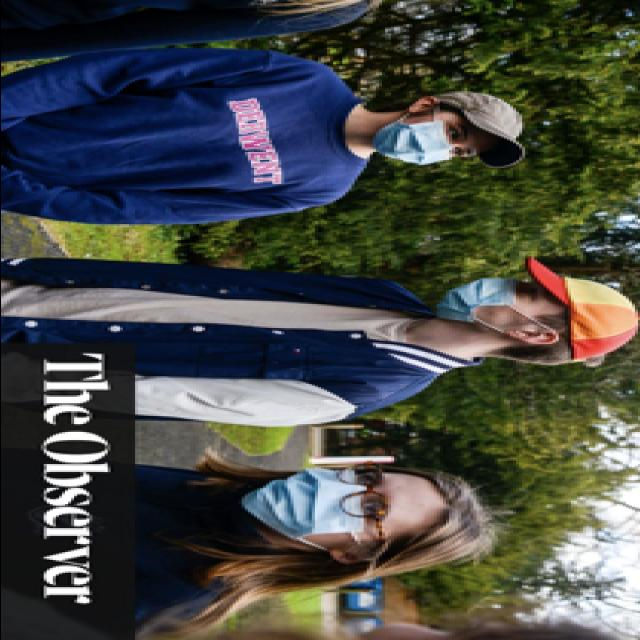with_mask: (235, 464, 399, 542), (375, 112, 481, 165), (430, 277, 546, 325)
